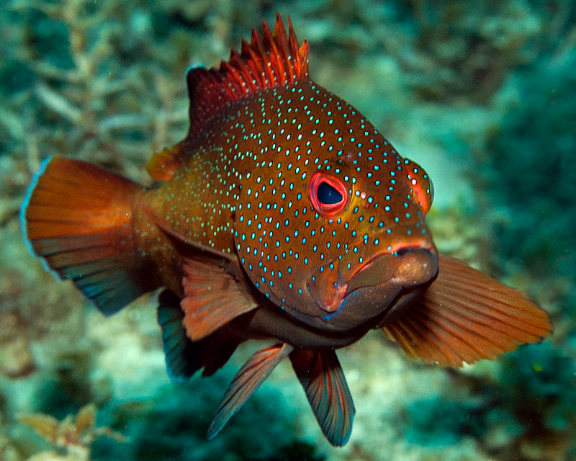Cephalopholis_fulvaw: (14, 14, 563, 431)
